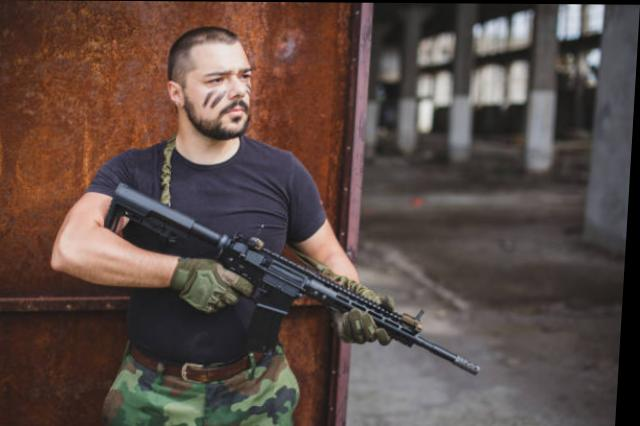other: (75, 31, 338, 424)
